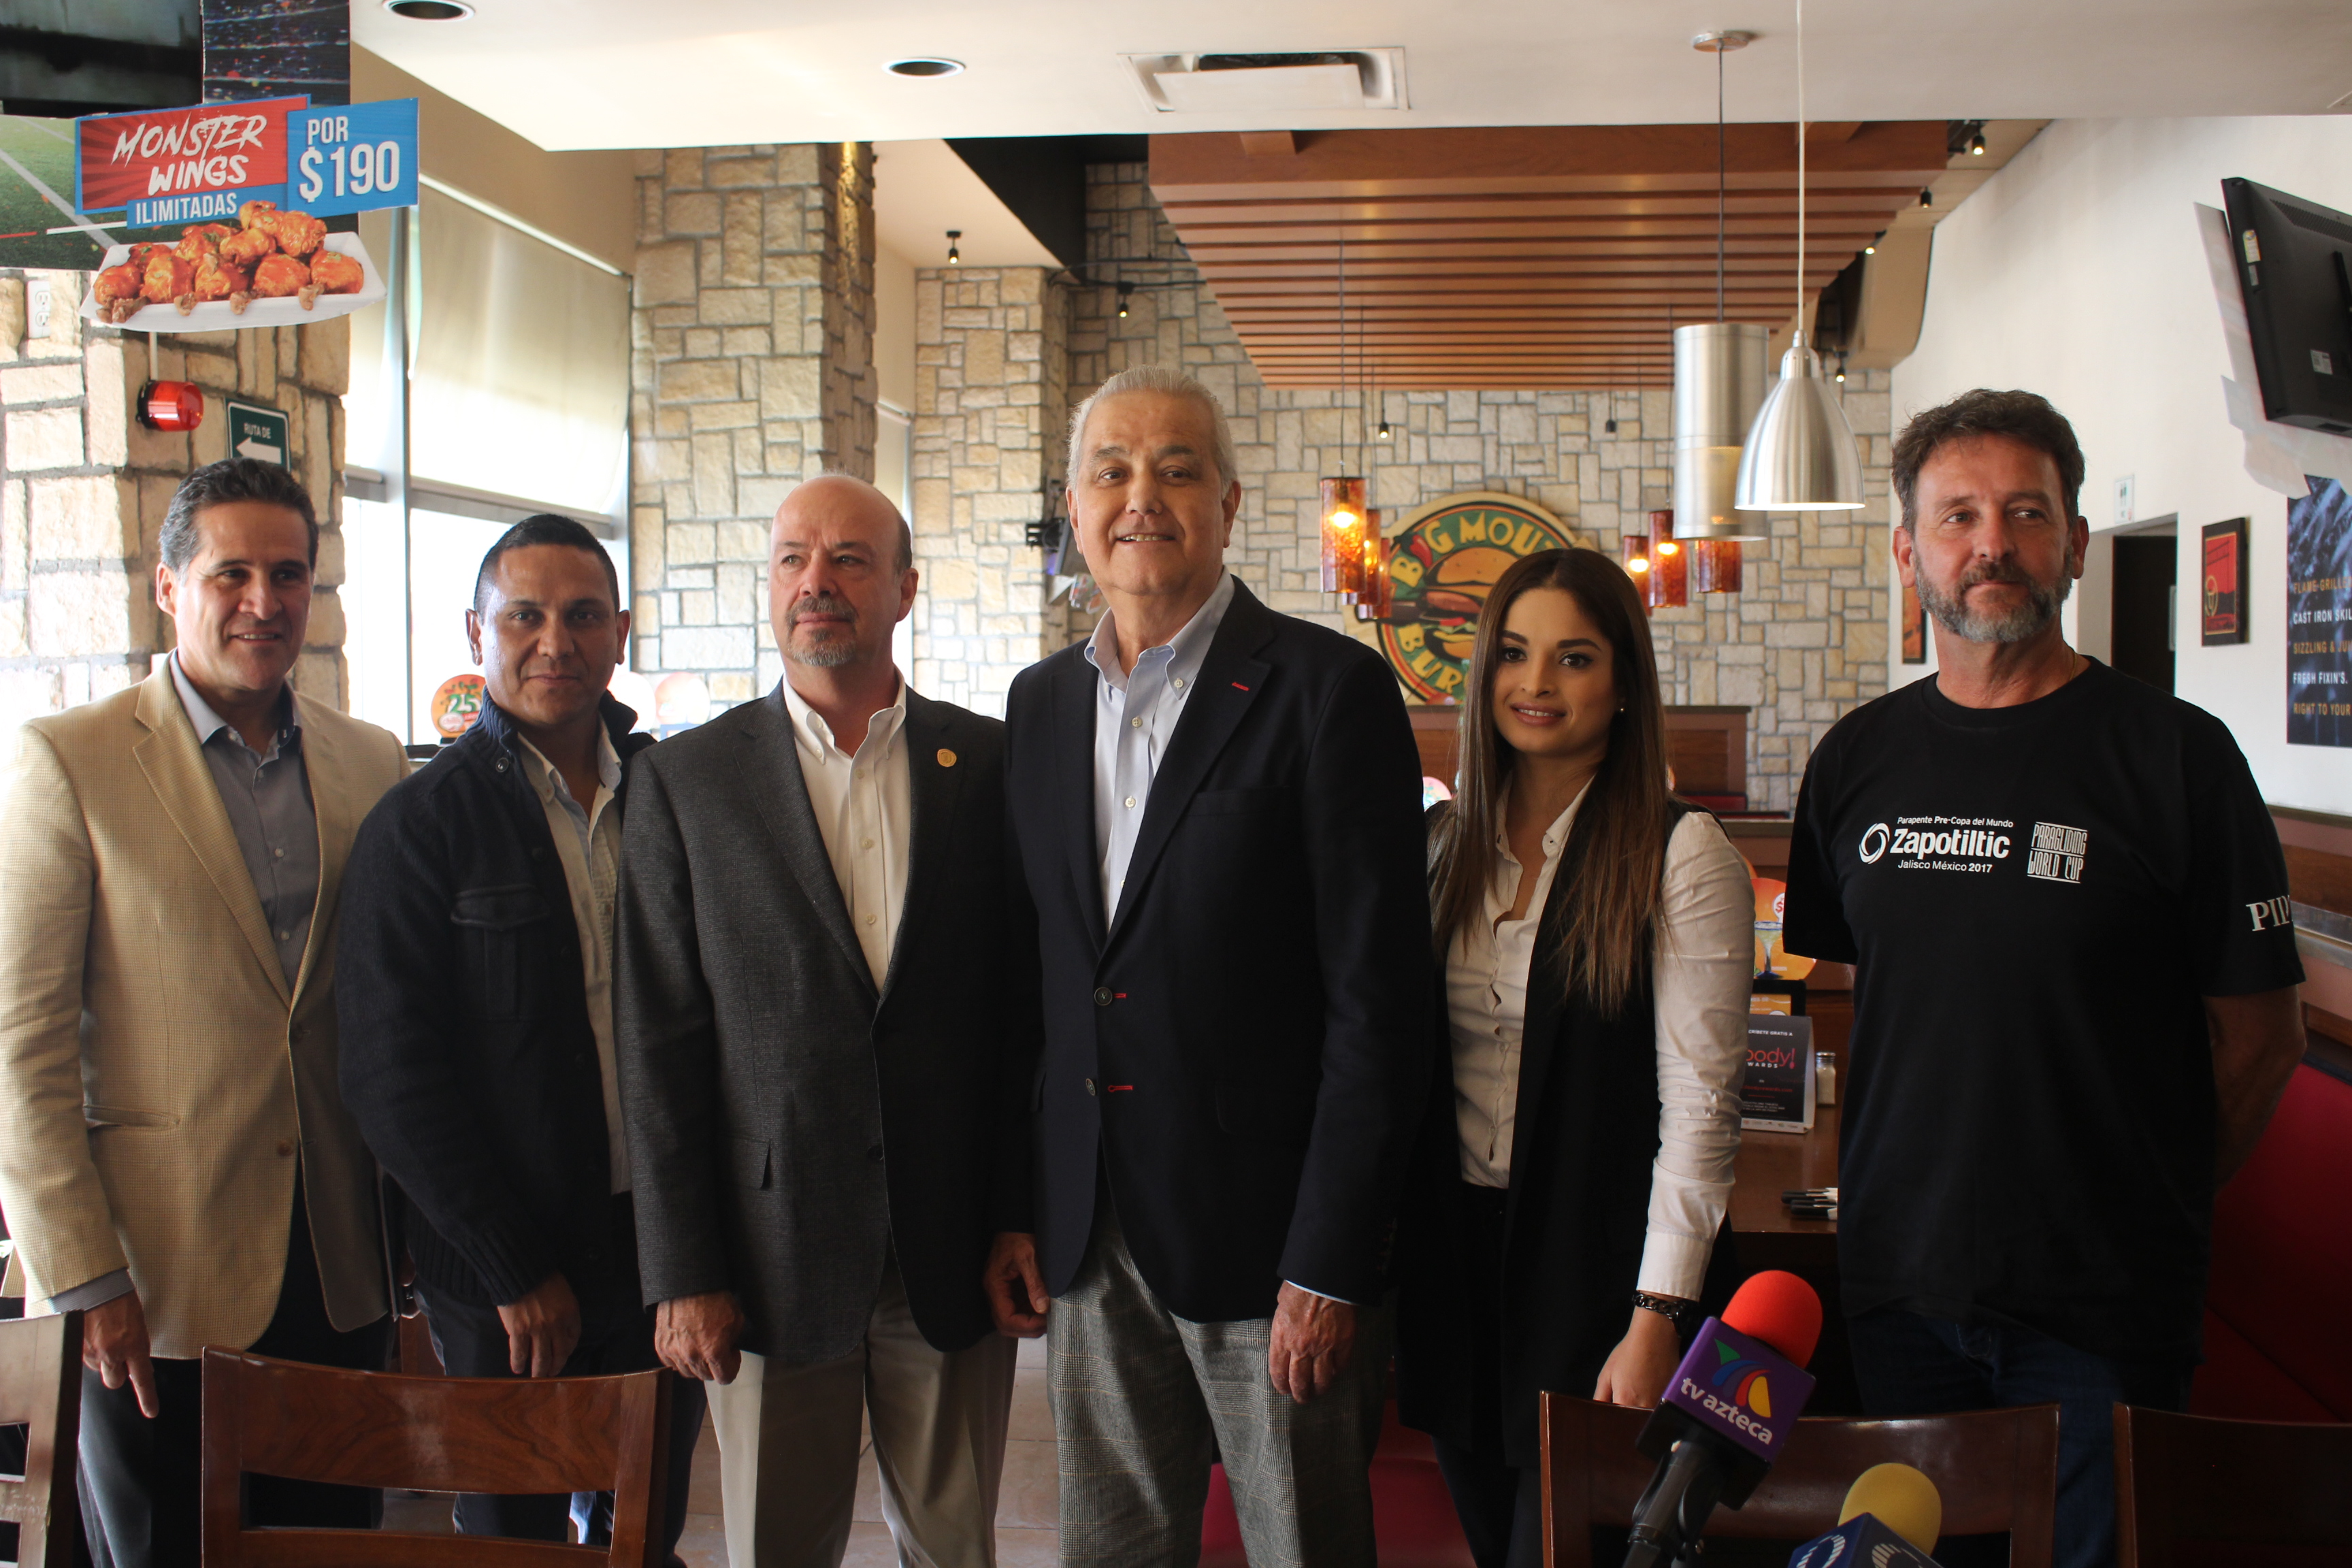person: (1809, 430, 2280, 1004), (633, 370, 1033, 958), (992, 340, 1382, 928), (355, 397, 704, 972), (1379, 531, 1741, 1010), (42, 425, 404, 866)
